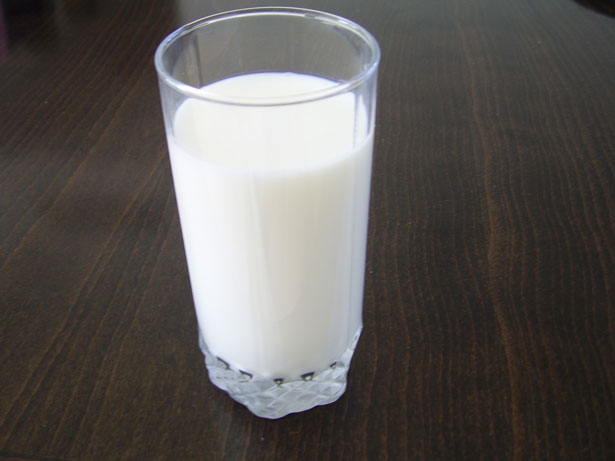glass of milk: (160, 51, 373, 397)
